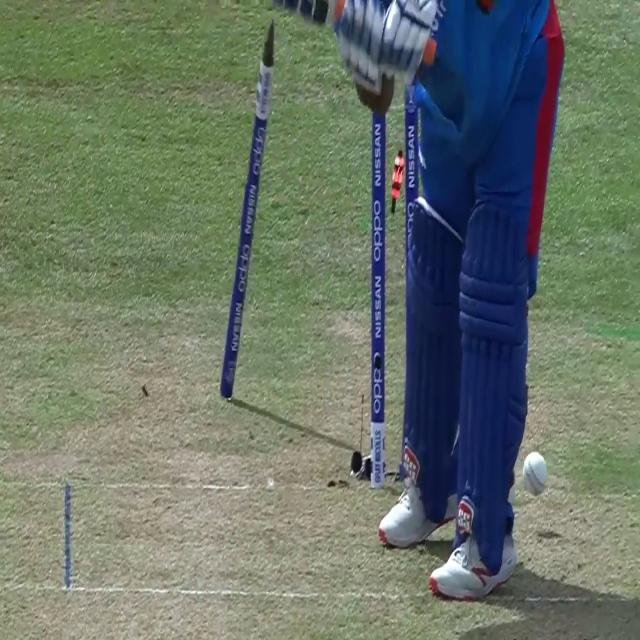ball: (522, 450, 550, 498)
